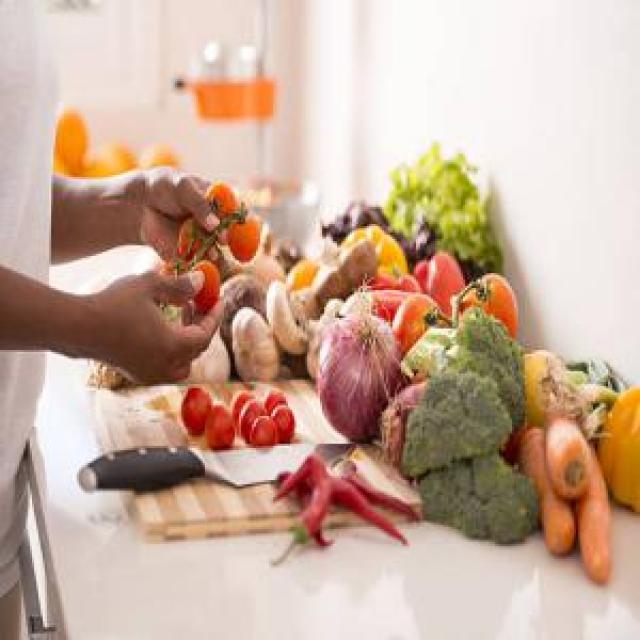knife: (79, 442, 362, 491)
